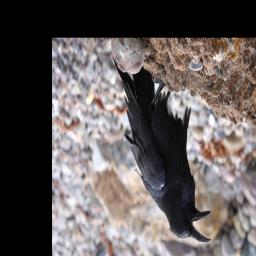Crow: (112, 57, 211, 242)
